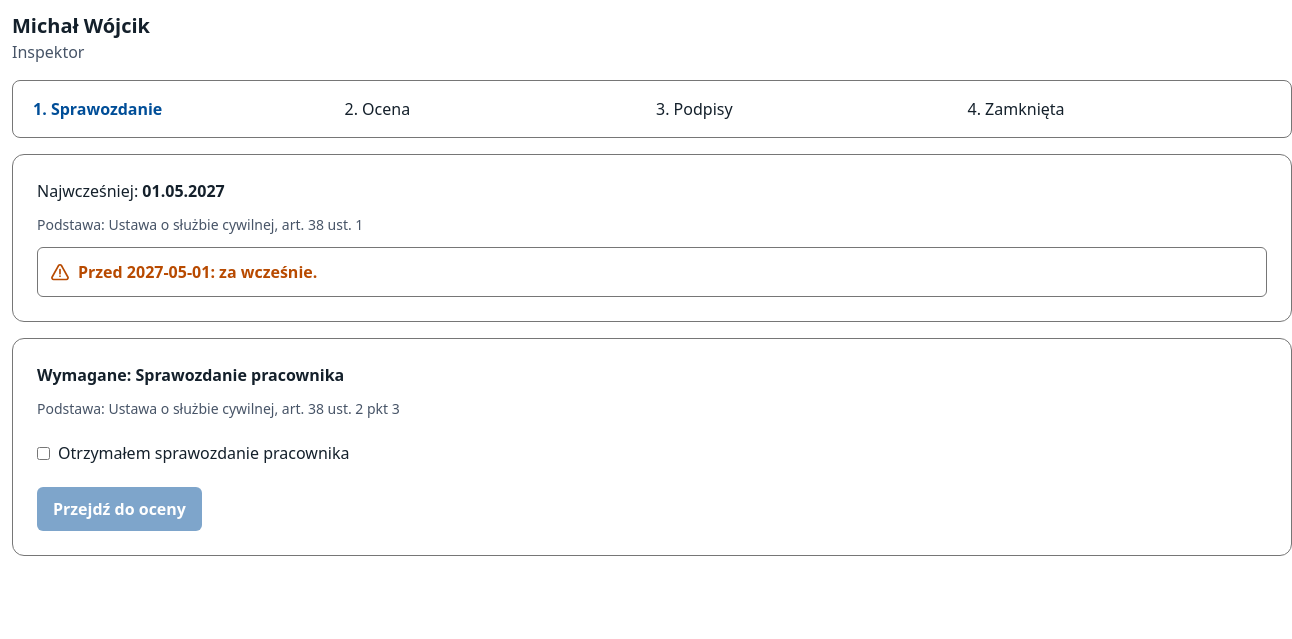
Test case: FirstReviewWizard › shows the server message when a step fails
Click the checkbox labelled "Otrzymałem sprawozdanie pracownika": x=44, y=453 [37,446,50,460]
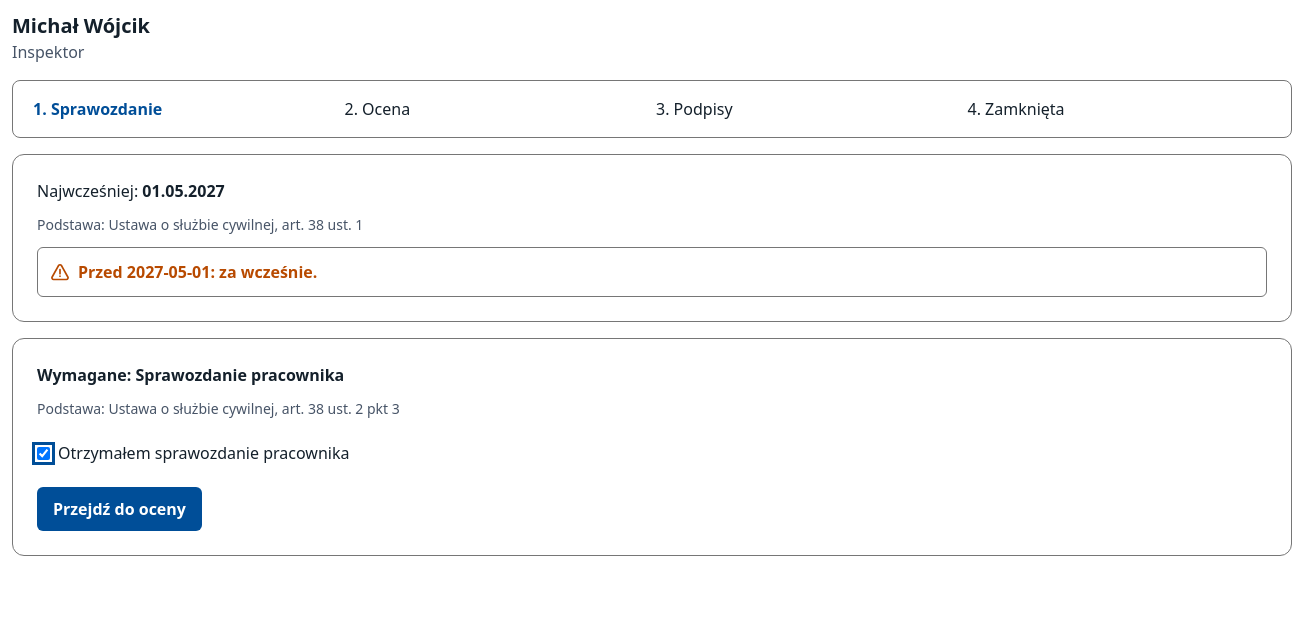
Click the button "Przejdź do oceny": x=120, y=509 [37,487,202,531]
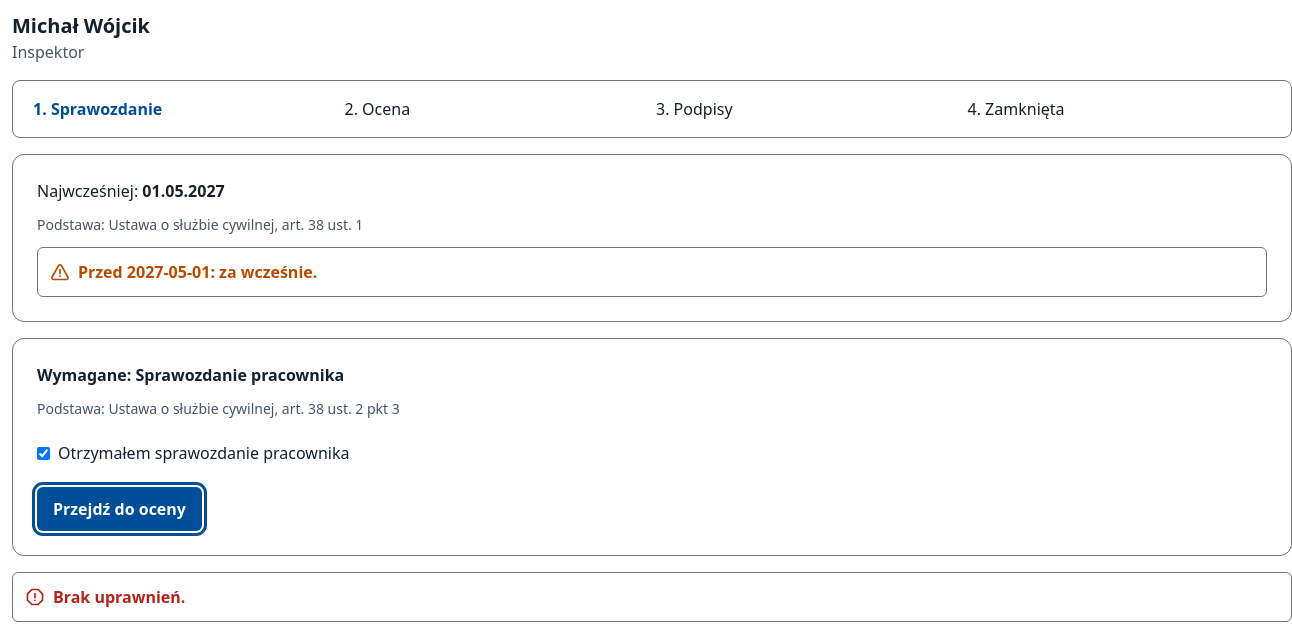
Now the message "Brak uprawnień." is shown, box [12,572,1291,622]
